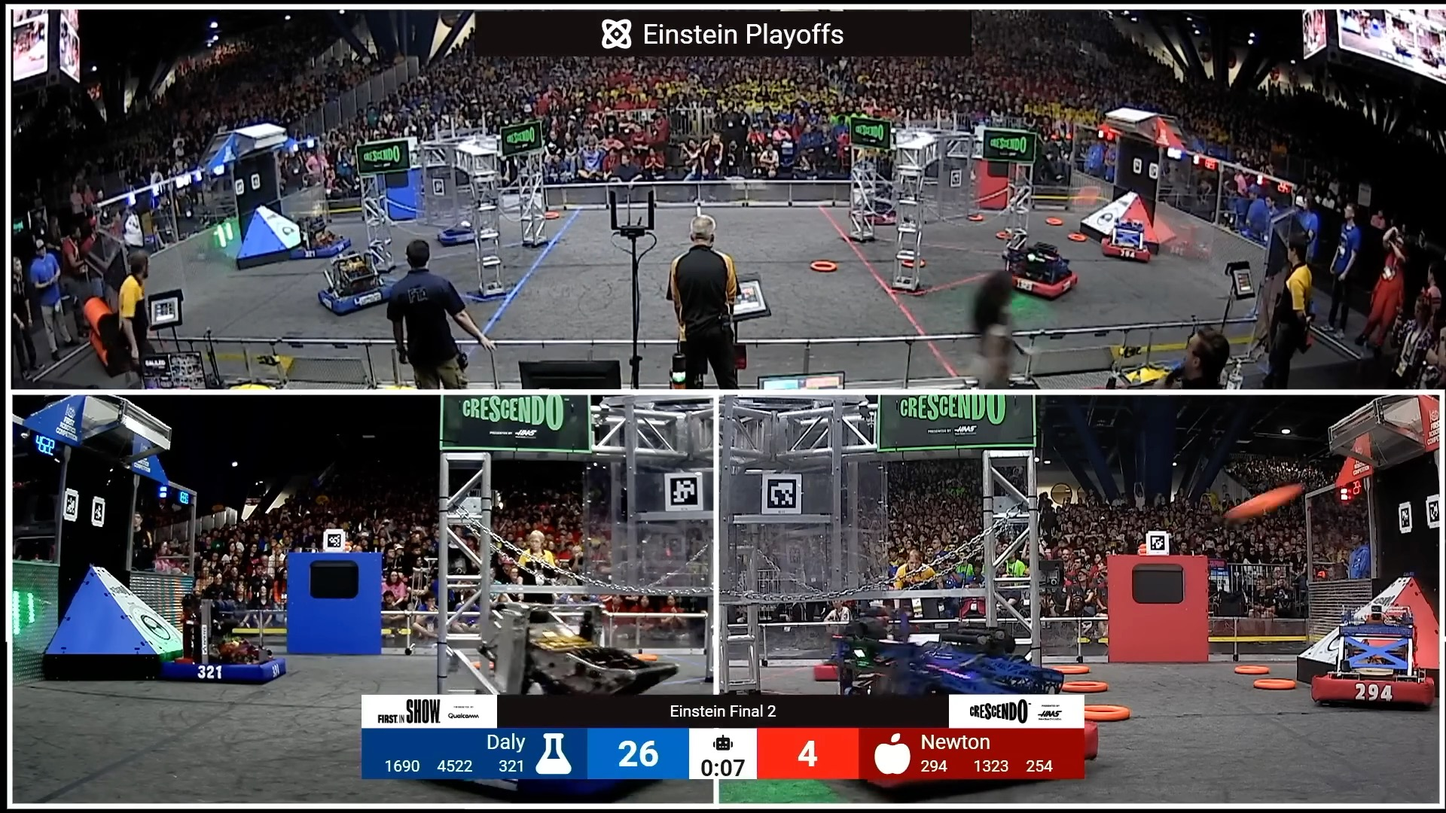bumpers: (181, 649, 300, 690), (1304, 673, 1438, 706), (997, 258, 1089, 301), (308, 279, 404, 319), (1091, 224, 1178, 267), (285, 231, 360, 262), (863, 206, 922, 230)
